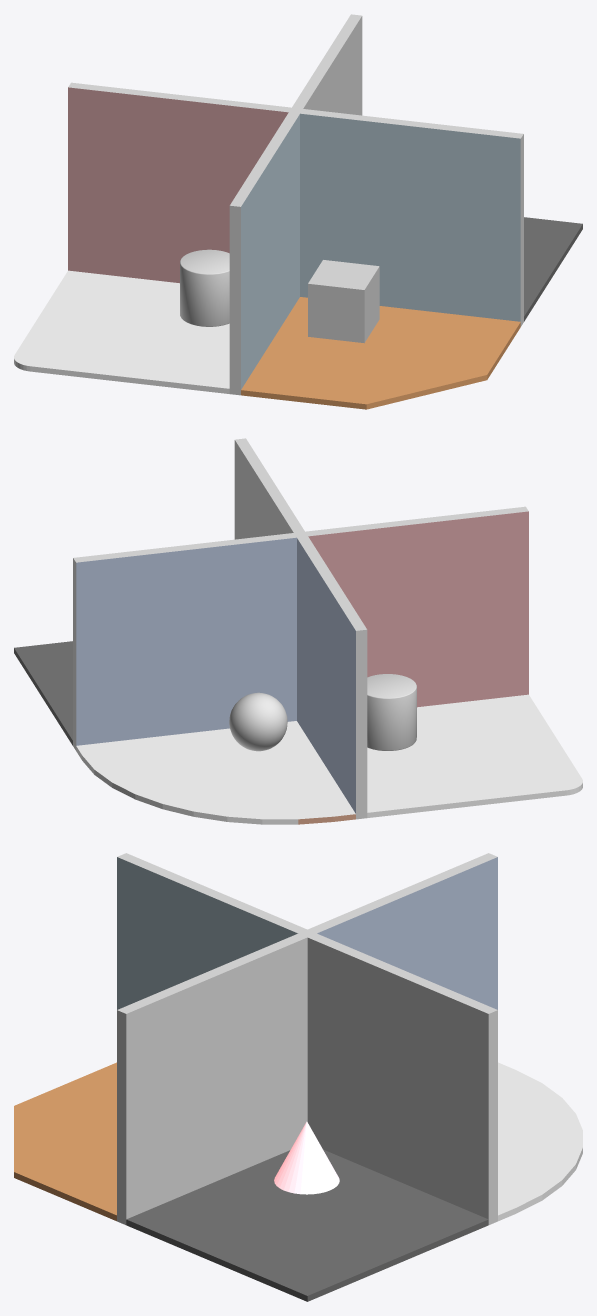
The model's file is concept.gltf.
3 renders of one model, top to bottom at view 1: azimuth 30°, elevation 25°; view 2: azimuth 150°, elevation 25°; view 3: azimuth 270°, elevation 25°, orthographic. The views are drawn at different scales.
Visible parts, largest first — view 1: Main, Cube, Cylinder; view 2: Main, Cylinder, Sphere; view 3: Main, Cone.
Boxes of the visible parts, x1,y1,x2,y2 form: Main: (14, 14, 582, 409); Cube: (308, 260, 379, 343); Cylinder: (180, 249, 229, 326); Main: (14, 438, 582, 824); Cylinder: (367, 674, 416, 750); Sphere: (229, 692, 287, 751); Main: (14, 853, 582, 1301); Cone: (274, 1121, 339, 1194).
Size of the model in its own units: 5.58 by 1.78 by 4.33.
